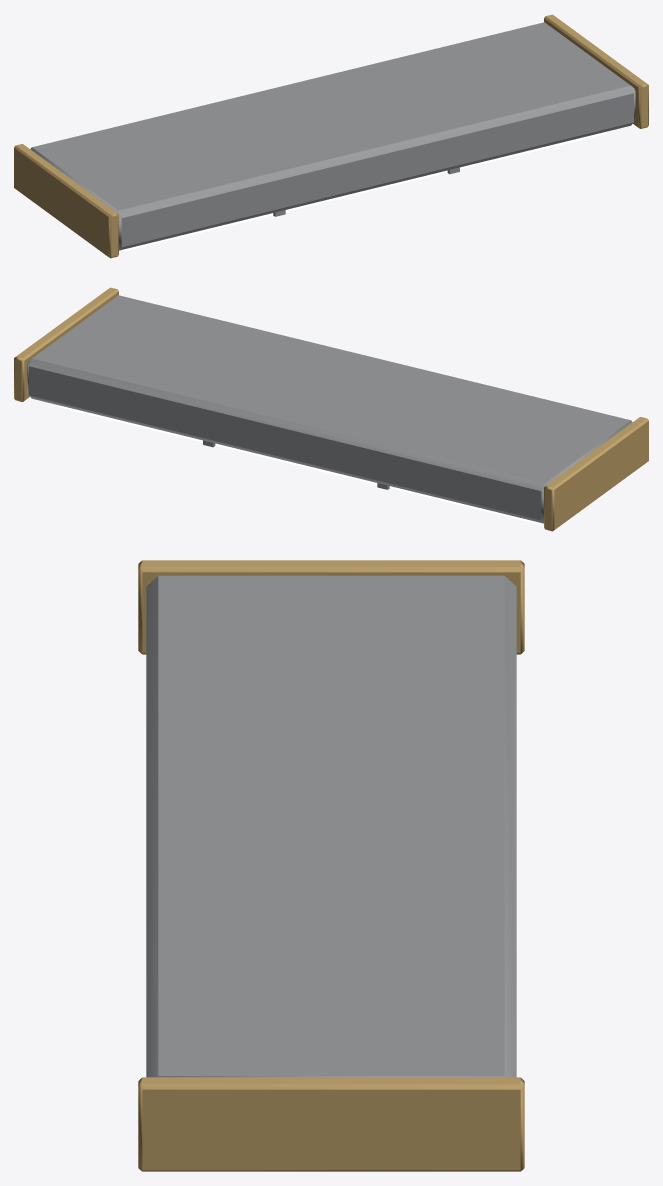
File: int_ceiling_light.glb
3 views of the same model, one above another, from view 1: azimuth 30°, elevation 25°; view 2: azimuth 150°, elevation 25°; view 3: azimuth 270°, elevation 25° (orthographic). The views are drawn at different scales.
Parts seen in each view (by area): view 1: kit_int_ceiling_light_metal, kit_int_ceiling_light_trim_metal, kit_int_ceiling_light_glow; view 2: kit_int_ceiling_light_metal, kit_int_ceiling_light_trim_metal, kit_int_ceiling_light_glow; view 3: kit_int_ceiling_light_metal, kit_int_ceiling_light_trim_metal.
Part boxes in pixels (x1=…): kit_int_ceiling_light_metal: x1=30, y1=22, x2=635, y2=250; kit_int_ceiling_light_trim_metal: x1=14, y1=14, x2=648, y2=258; kit_int_ceiling_light_glow: x1=123, y1=132, x2=606, y2=251; kit_int_ceiling_light_metal: x1=27, y1=295, x2=632, y2=523; kit_int_ceiling_light_trim_metal: x1=14, y1=287, x2=648, y2=531; kit_int_ceiling_light_glow: x1=56, y1=405, x2=539, y2=524; kit_int_ceiling_light_metal: x1=146, y1=575, x2=516, y2=1077; kit_int_ceiling_light_trim_metal: x1=138, y1=560, x2=524, y2=1171.
Size of the model in its own units: 1.55 by 0.146 by 0.48.
